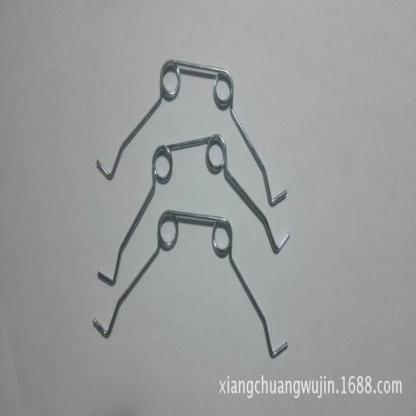FOD: (89, 206, 289, 362)
